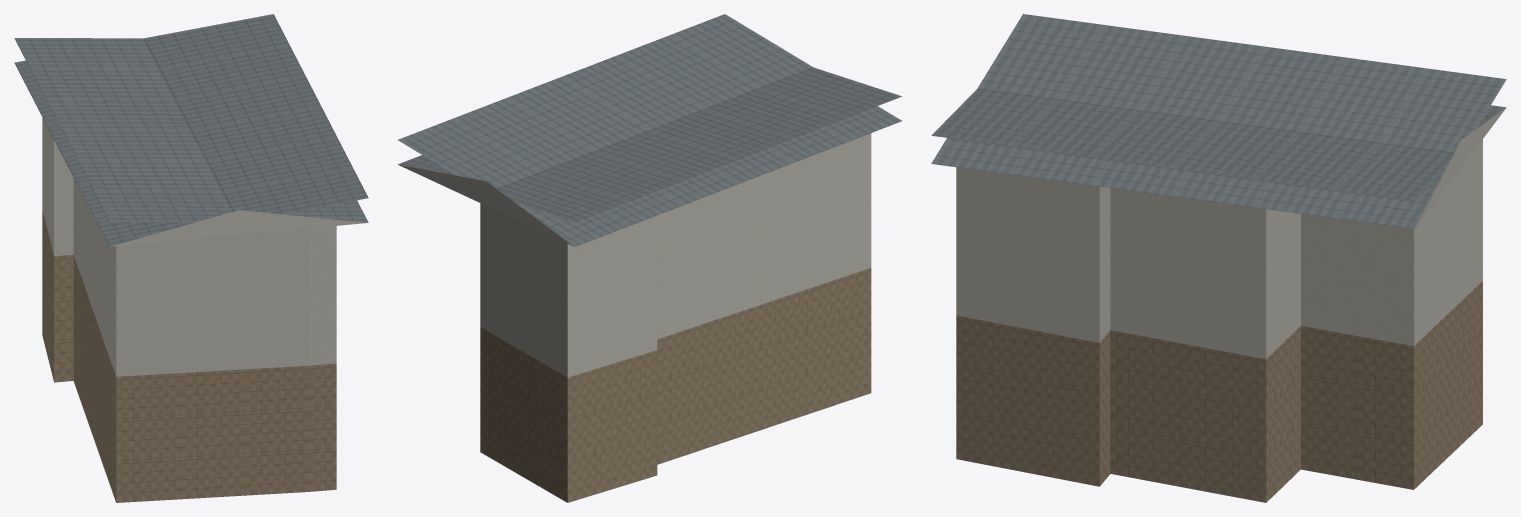
Rendered from bld_c31_-37_460.gltf.
3 renders of one model, left to right at view 1: azimuth 30°, elevation 25°; view 2: azimuth 150°, elevation 25°; view 3: azimuth 270°, elevation 25°, orthographic. The views are drawn at different scales.
Parts seen in each view (by area): view 1: bld_c31_-37_460; view 2: bld_c31_-37_460; view 3: bld_c31_-37_460.
Part boxes in pixels (x1=…): bld_c31_-37_460: x1=14, y1=14, x2=368, y2=502; bld_c31_-37_460: x1=398, y1=14, x2=901, y2=502; bld_c31_-37_460: x1=931, y1=14, x2=1506, y2=502.
Bounding box in the file's own units: 14.23 × 11.9 × 18.52.
Materials: 4 (4 with a texture image).
